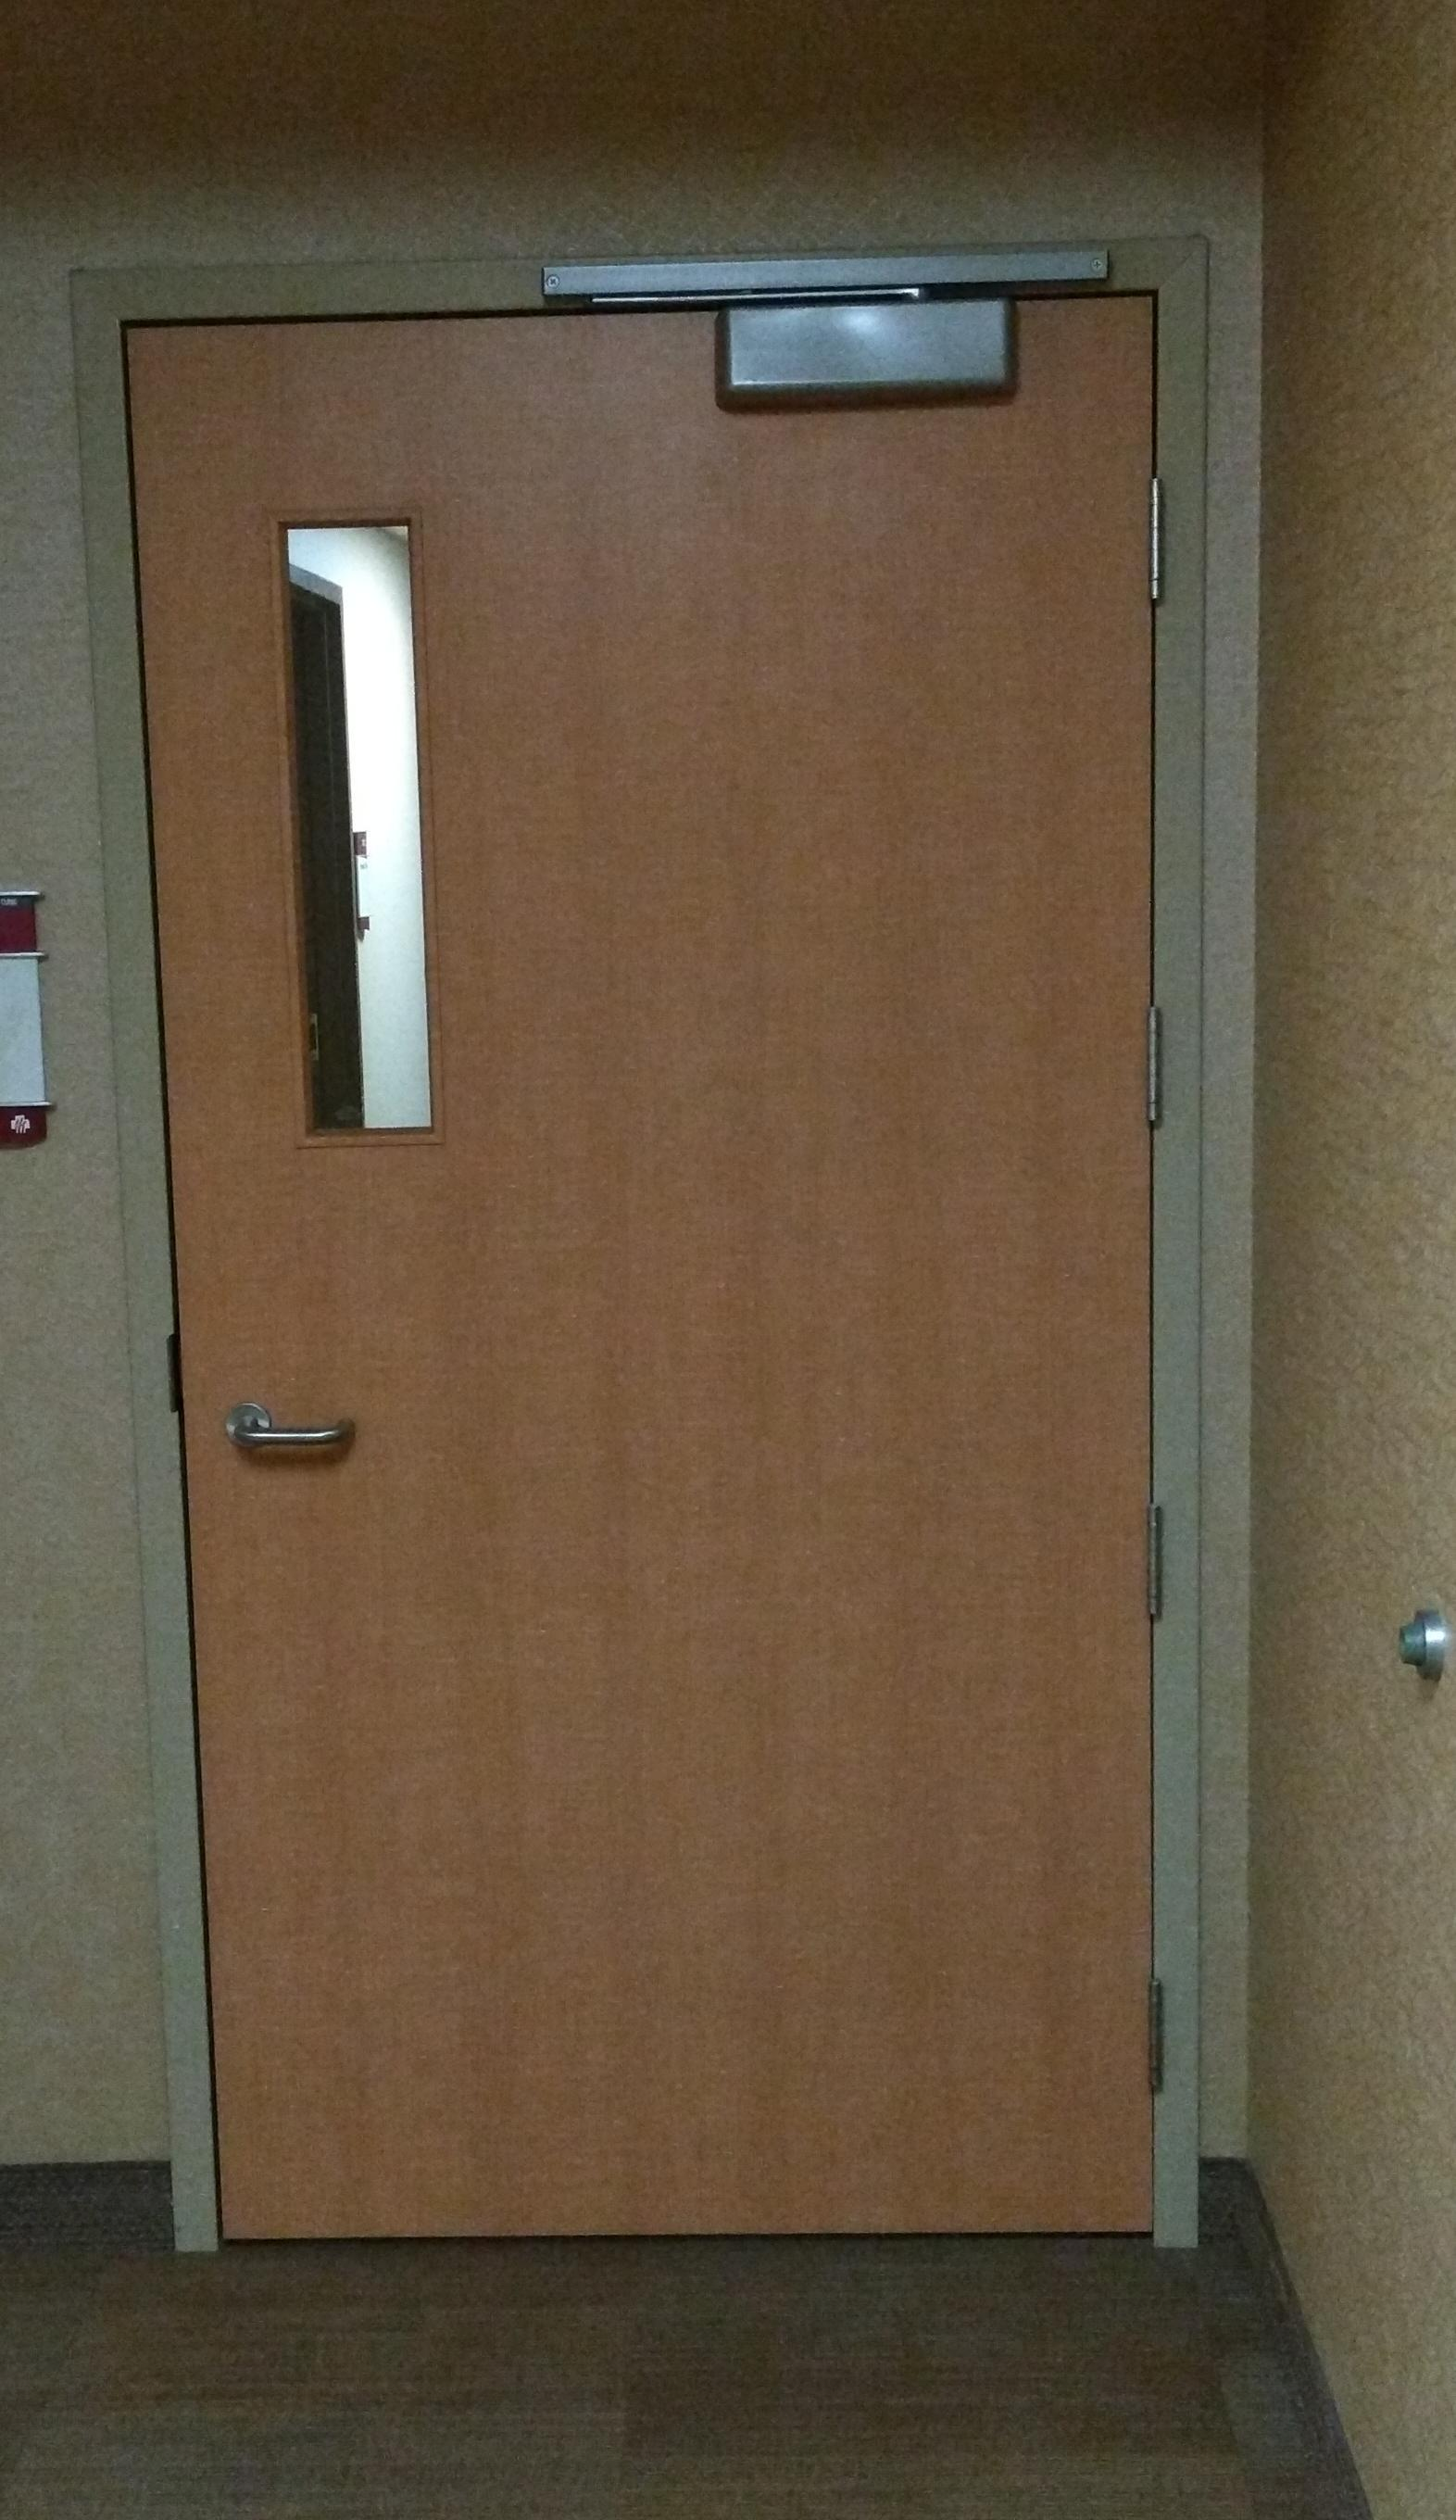door: (59, 243, 1250, 2258)
